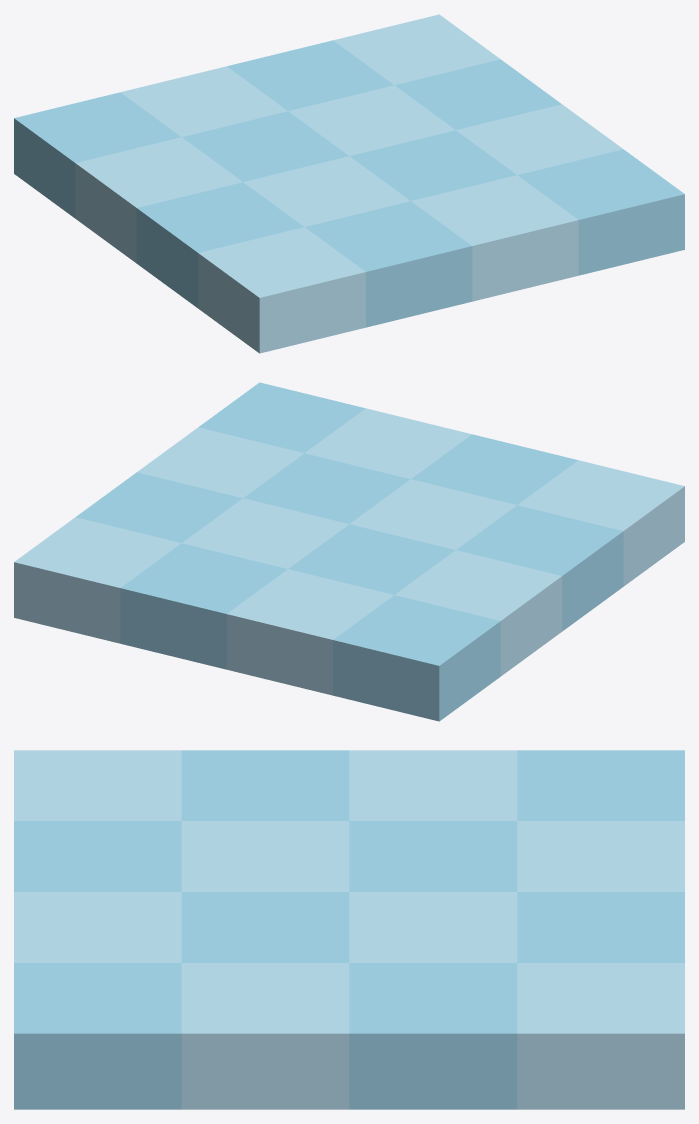
Rendered from road.fbx.
The picture shows the model from 3 angles, top to bottom: view 1: azimuth 30°, elevation 25°; view 2: azimuth 150°, elevation 25°; view 3: azimuth 270°, elevation 25°; orthographic projection. The views are drawn at different scales.
Visible parts, largest first — view 1: Cube; view 2: Cube; view 3: Cube.
Boxes of the visible parts, <box> form: Cube: <box>14,14,684,353</box>; Cube: <box>14,382,684,721</box>; Cube: <box>14,750,684,1109</box>.
Size of the model in its own units: 8 by 1 by 8.
